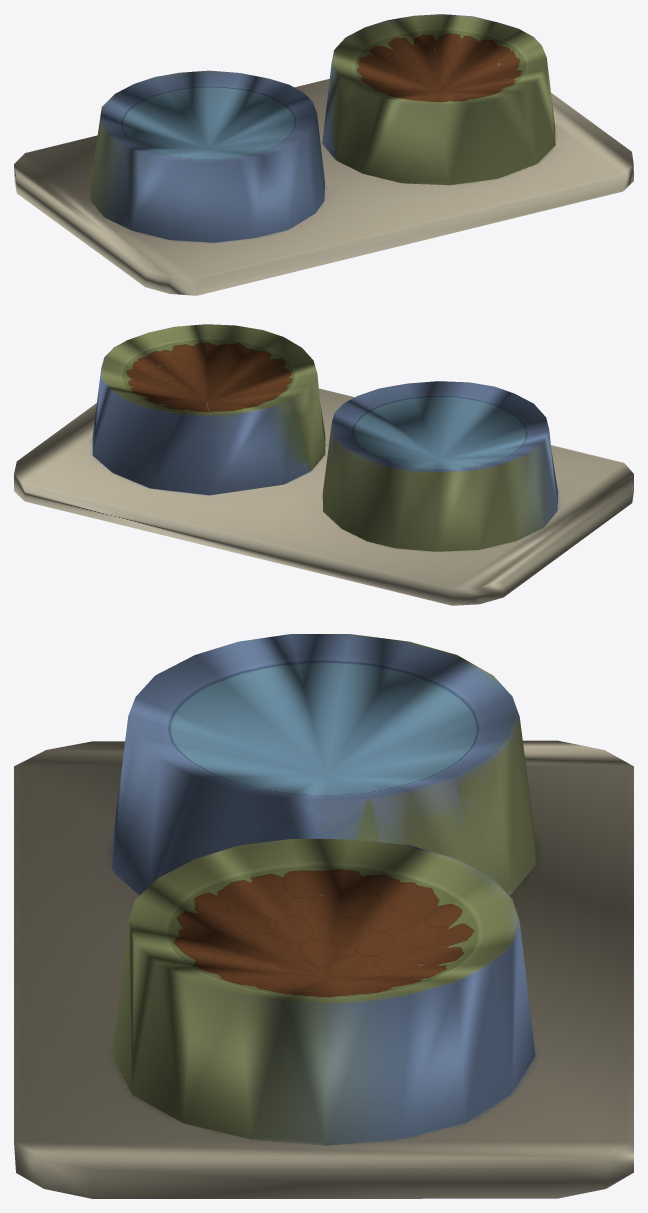
The model's file is cat_bowls.fbx.
3 renders of one model, top to bottom at view 1: azimuth 30°, elevation 25°; view 2: azimuth 150°, elevation 25°; view 3: azimuth 270°, elevation 25°, orthographic. The views are drawn at different scales.
Parts seen in each view (by area): view 1: Mesh_0; view 2: Mesh_0; view 3: Mesh_0.
Boxes of the visible parts, <box> form: Mesh_0: <box>14,14,633,295</box>; Mesh_0: <box>14,324,633,605</box>; Mesh_0: <box>14,634,633,1198</box>.
Bounding box in the file's own units: 95.7 × 17.43 × 58.54.
1 material, 1 textured.
